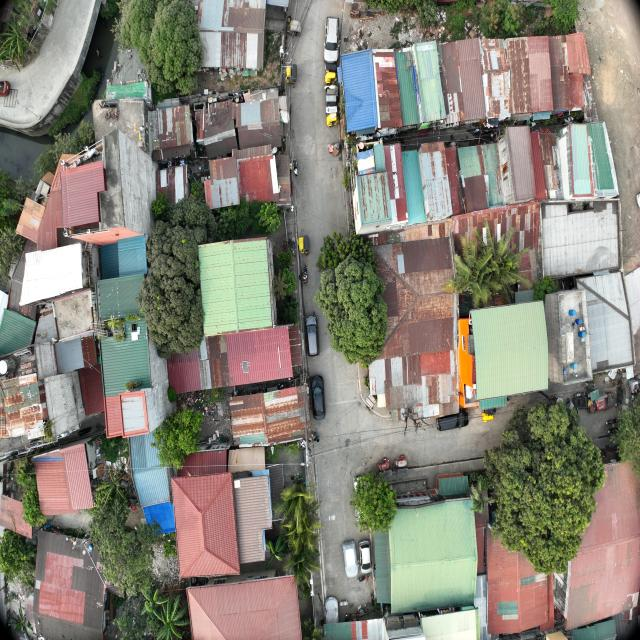Tree: (486, 402, 606, 575), (137, 217, 207, 362), (112, 0, 202, 99), (442, 216, 534, 311), (314, 255, 389, 371), (94, 492, 160, 596), (275, 482, 323, 587), (152, 406, 203, 474), (350, 473, 398, 540), (139, 585, 192, 640), (317, 230, 379, 276), (16, 460, 49, 530), (613, 393, 640, 476), (170, 199, 218, 241), (0, 530, 35, 587), (470, 474, 494, 523), (256, 200, 284, 238), (266, 533, 288, 572), (216, 203, 237, 242), (150, 191, 172, 221), (274, 269, 290, 301)
